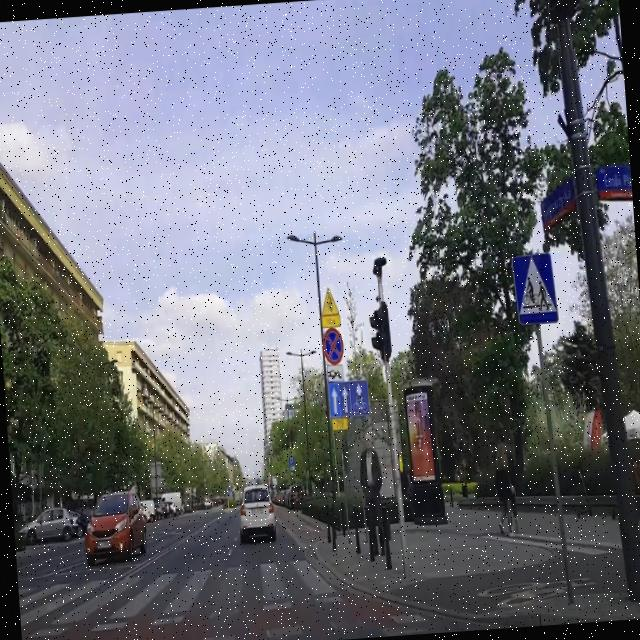Zakaz zatrzymywania sie: (320, 326, 345, 366)
